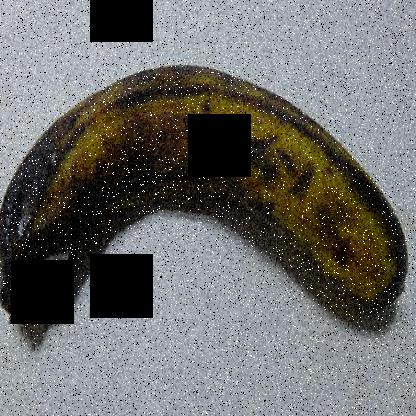overripe: (0, 53, 409, 349)
rotten: (0, 136, 88, 316)
